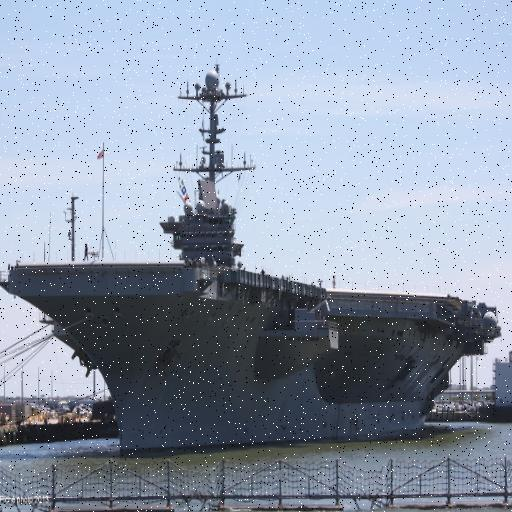Portanaves: (1, 59, 509, 463)
